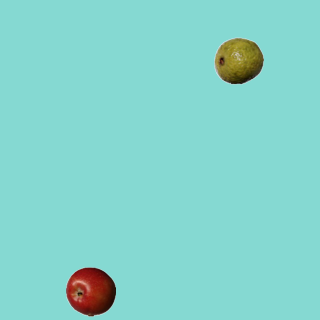Apple Braeburn: (65, 266, 115, 316)
Guava: (213, 35, 263, 85)
